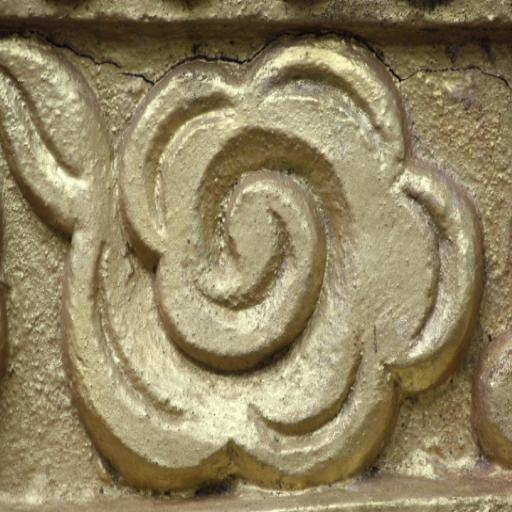hoa: (61, 35, 481, 511)
